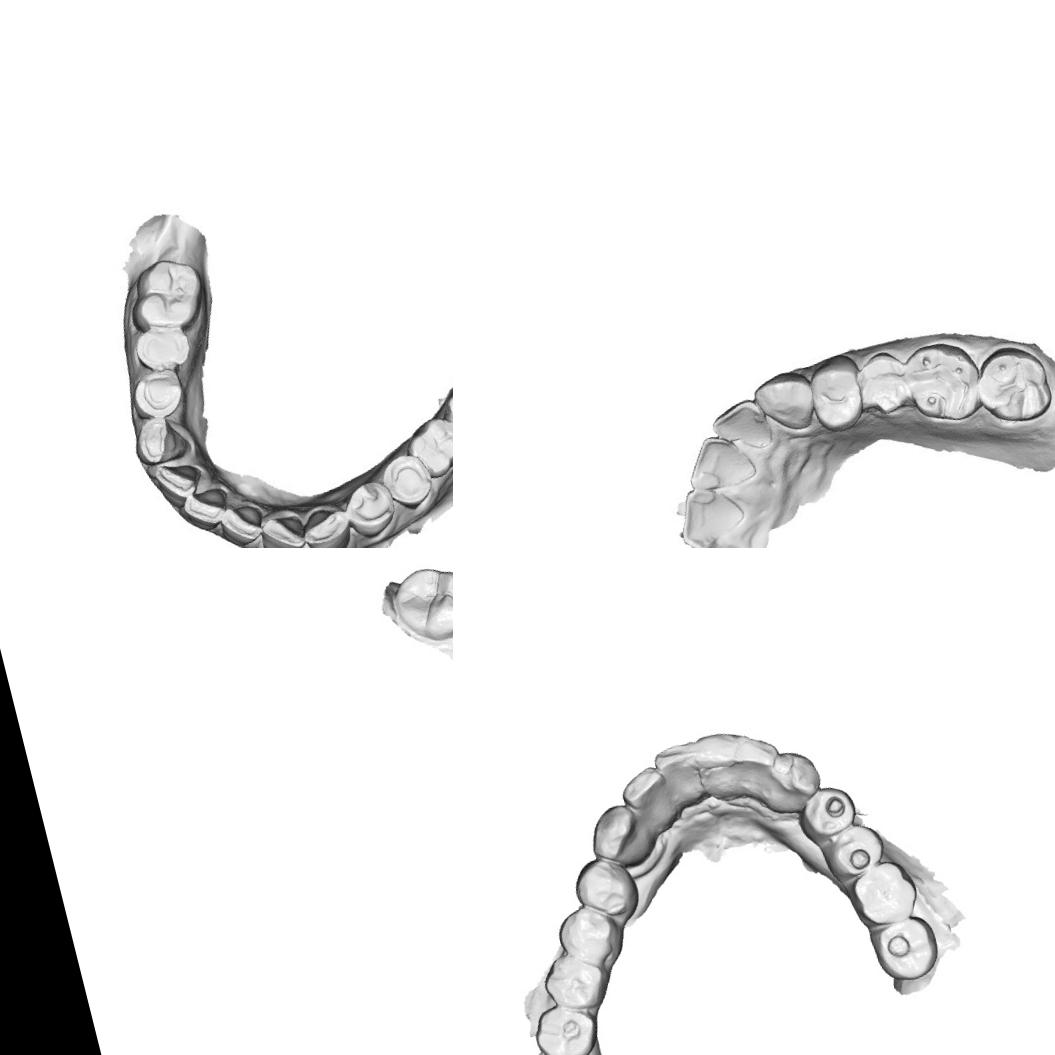canine: (582, 797, 654, 876), (757, 742, 825, 822), (750, 366, 819, 444), (131, 409, 197, 470), (295, 501, 353, 548)
incisor: (685, 726, 750, 805), (684, 430, 759, 498), (708, 396, 782, 464), (726, 727, 788, 806), (672, 484, 748, 548), (616, 762, 676, 836), (649, 740, 706, 814), (148, 454, 206, 513), (176, 484, 230, 533), (214, 501, 267, 548), (253, 507, 306, 548)
molar: (966, 329, 1055, 433), (899, 336, 985, 429), (121, 248, 207, 335), (383, 555, 453, 651), (864, 912, 948, 989), (842, 854, 922, 932), (533, 944, 614, 1020), (527, 996, 604, 1055), (404, 412, 453, 477), (435, 369, 453, 444)
premolar: (552, 896, 630, 977), (565, 850, 642, 926), (803, 358, 871, 432), (819, 816, 890, 884), (793, 778, 861, 846), (849, 346, 915, 416), (378, 450, 438, 516), (342, 474, 402, 540), (130, 319, 192, 375), (125, 367, 189, 421)
